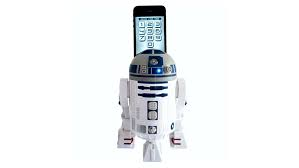r2d2: (117, 49, 189, 163)
